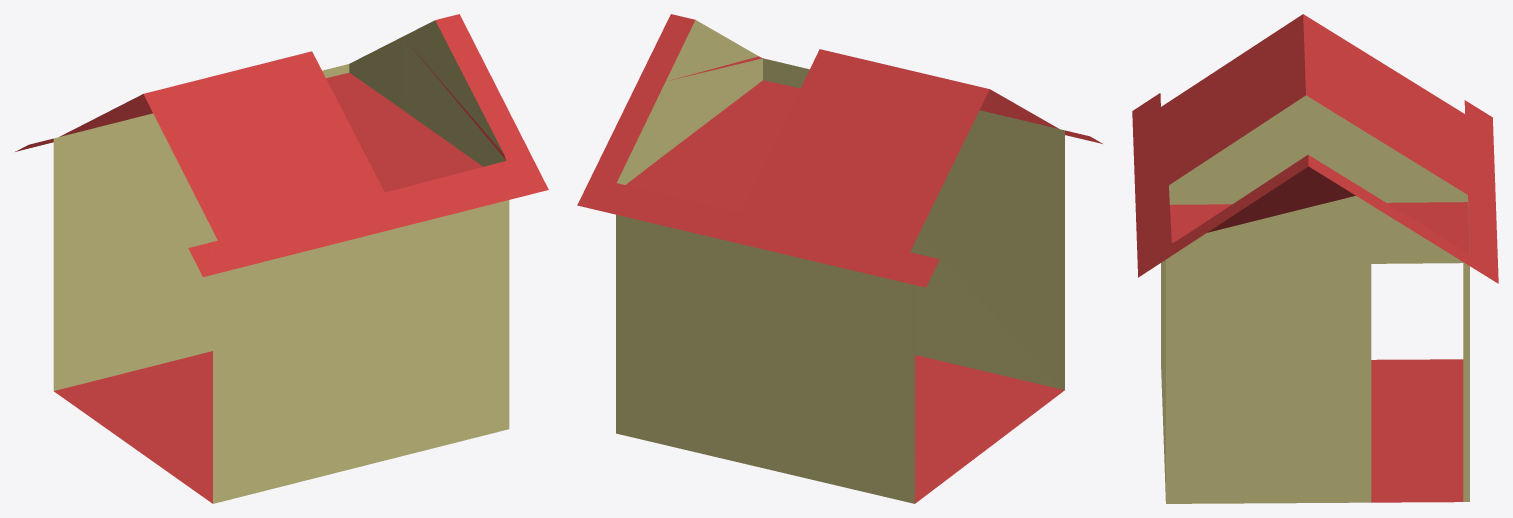
The picture shows the model from 3 angles, left to right: view 1: azimuth 30°, elevation 25°; view 2: azimuth 150°, elevation 25°; view 3: azimuth 270°, elevation 25°; orthographic projection. The views are drawn at different scales.
Size of the model in its own units: 14.16 by 12.98 by 13.63.
